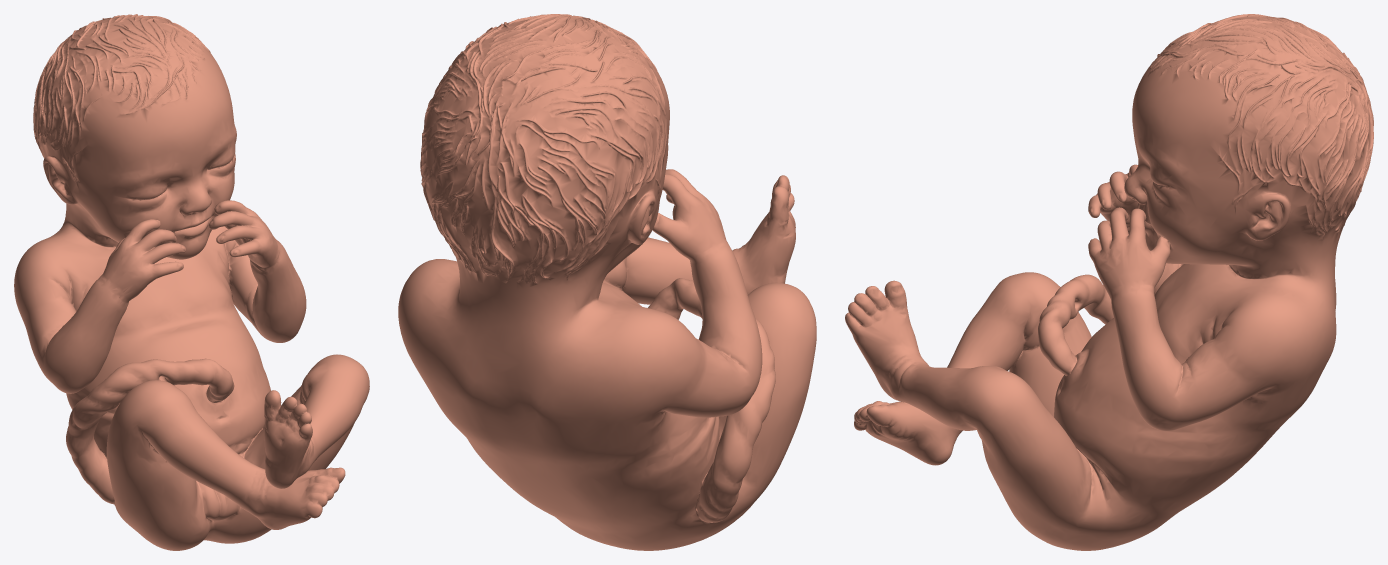
Rendered from semaine-27.glb.
The picture shows the model from 3 angles, left to right: view 1: azimuth 30°, elevation 25°; view 2: azimuth 150°, elevation 25°; view 3: azimuth 270°, elevation 25°; orthographic projection. The views are drawn at different scales.
Size of the model in its own units: 1.09 by 1.9 by 1.78.
